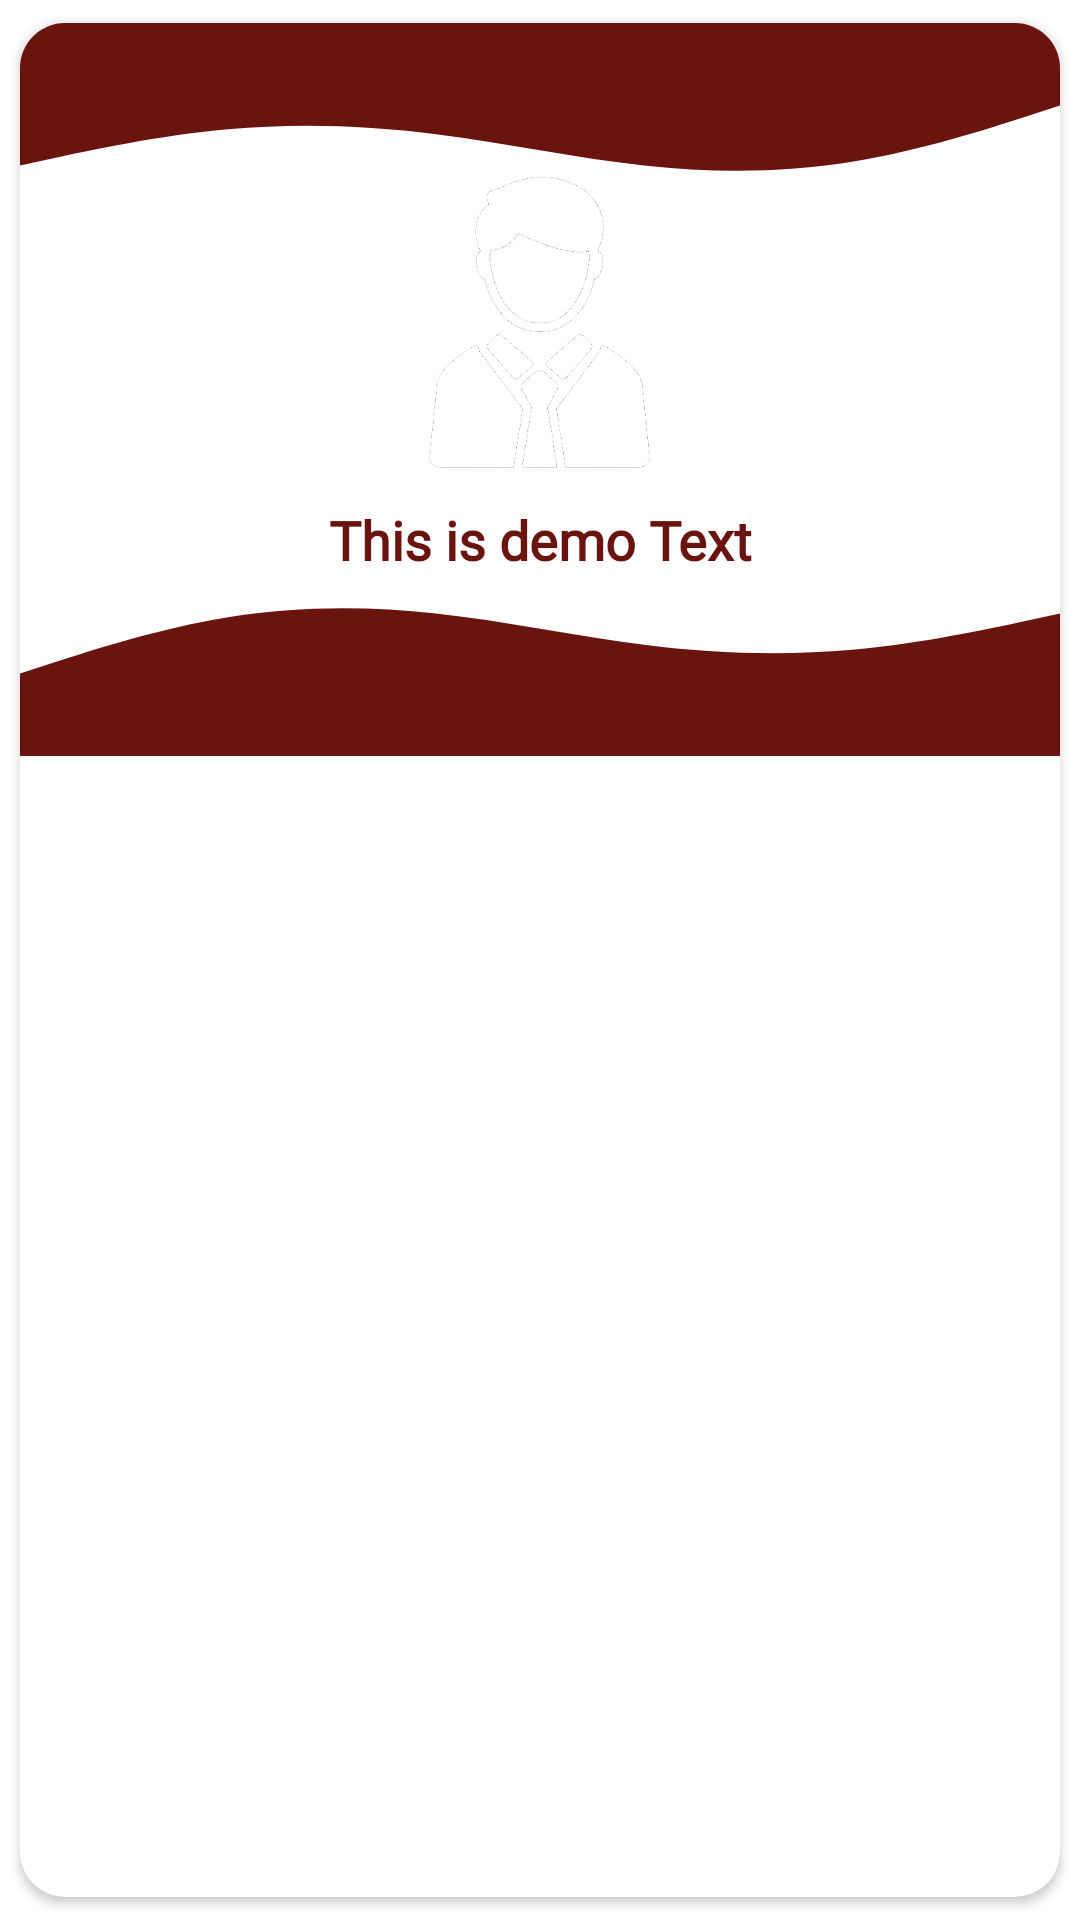

Screen size 1080px×1920px. Icon name, then its box in pixels as (x1=x1, y1=y1, x2=x2, y2=y2):
studenticon: (x1=430, y1=177, x2=650, y2=468)
